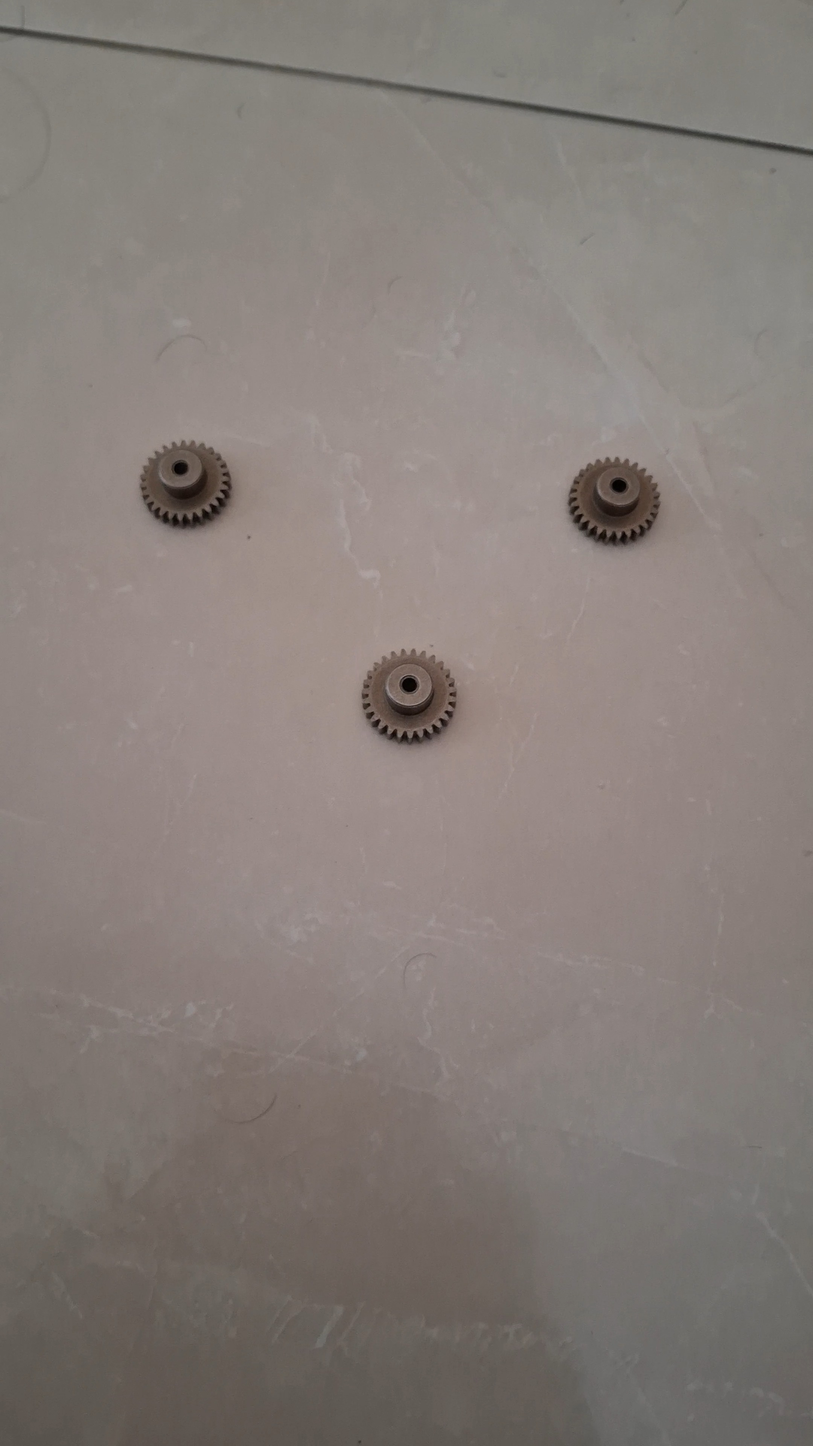spur gear: (362, 650, 456, 741), (569, 458, 659, 543), (141, 442, 231, 525)
